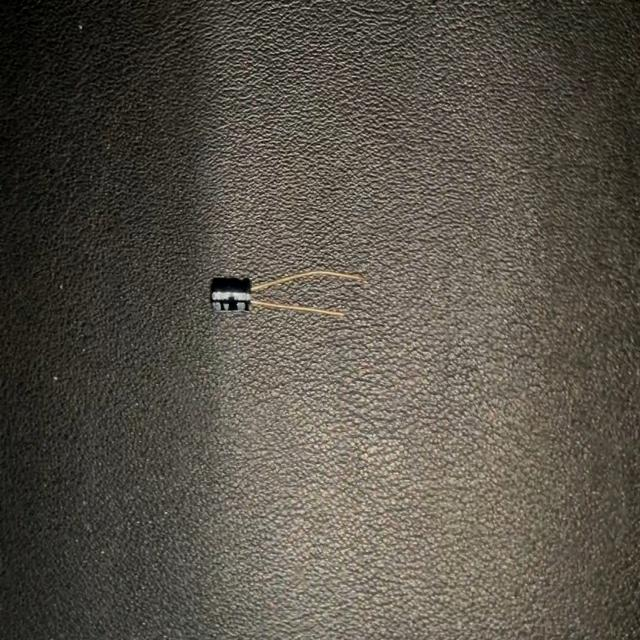capacitor: (210, 268, 360, 319)
